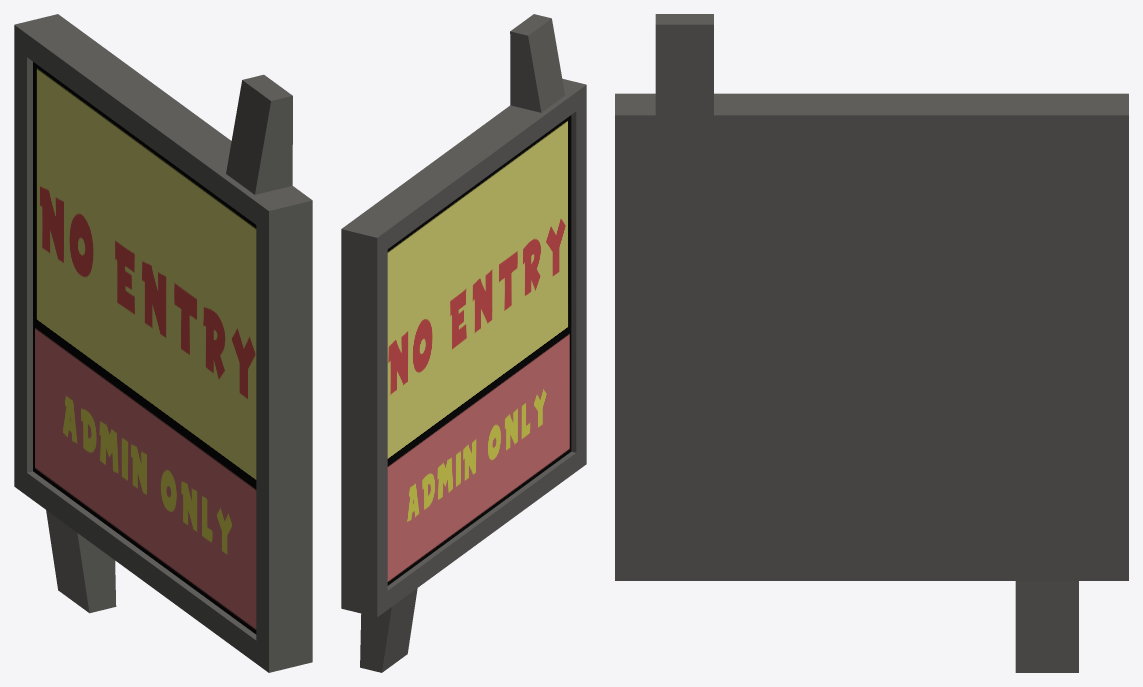
The model's file is NoEntrySign.fbx.
3 renders of one model, left to right at view 1: azimuth 30°, elevation 25°; view 2: azimuth 150°, elevation 25°; view 3: azimuth 270°, elevation 25°, orthographic. The views are drawn at different scales.
Visible parts, largest first — view 1: No Entry; view 2: No Entry; view 3: No Entry.
Boxes of the visible parts, bbox=[...] form: No Entry: bbox=[14, 14, 312, 672]; No Entry: bbox=[341, 14, 586, 672]; No Entry: bbox=[615, 14, 1128, 672].
Bounding box in the file's own units: 55.33 × 740 × 532.
